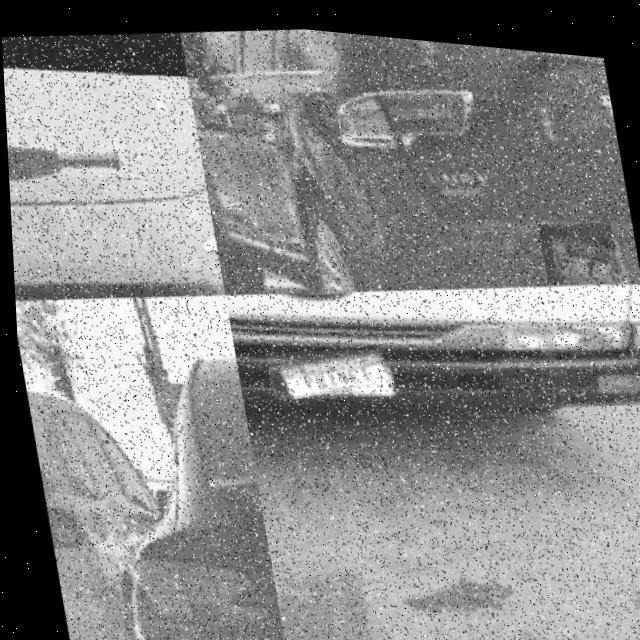LicensePlate: (264, 341, 385, 393), (541, 214, 614, 272)
